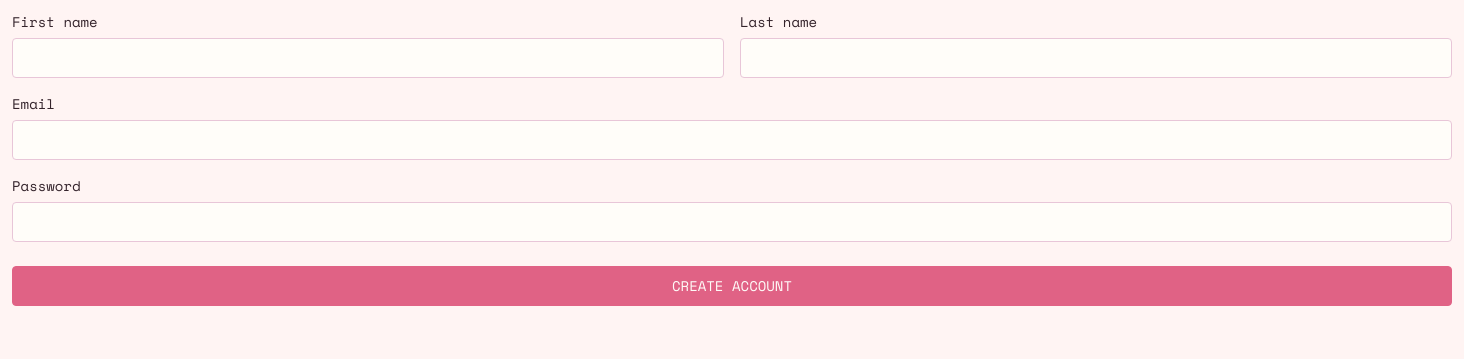
RegisterForm › shows a server error when the email is already registered
Type "Mila" into the field labelled "First name".
click(368, 58); type("Mila")  # box [12,38,724,78]
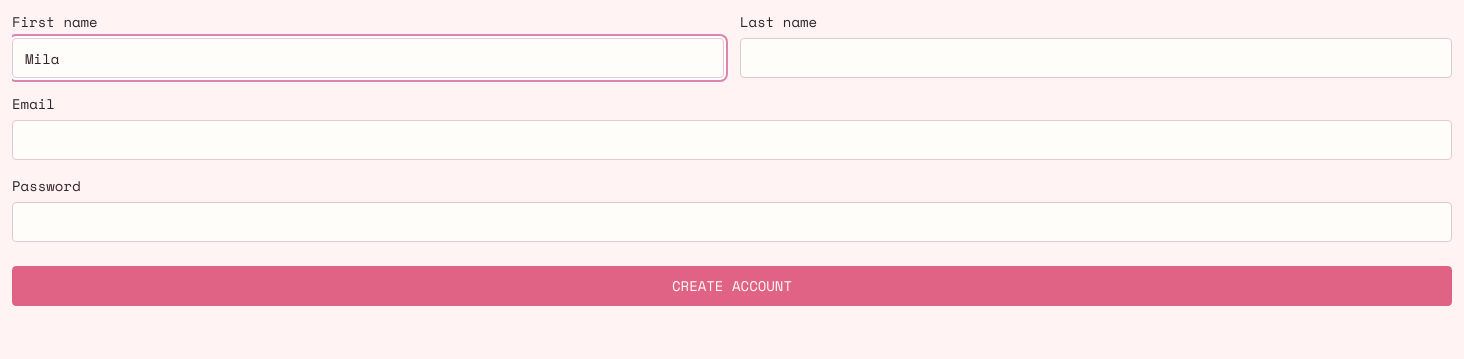
Type "Cerutti" into the field labelled "Last name".
click(1096, 58); type("Cerutti")  # box [740,38,1452,78]
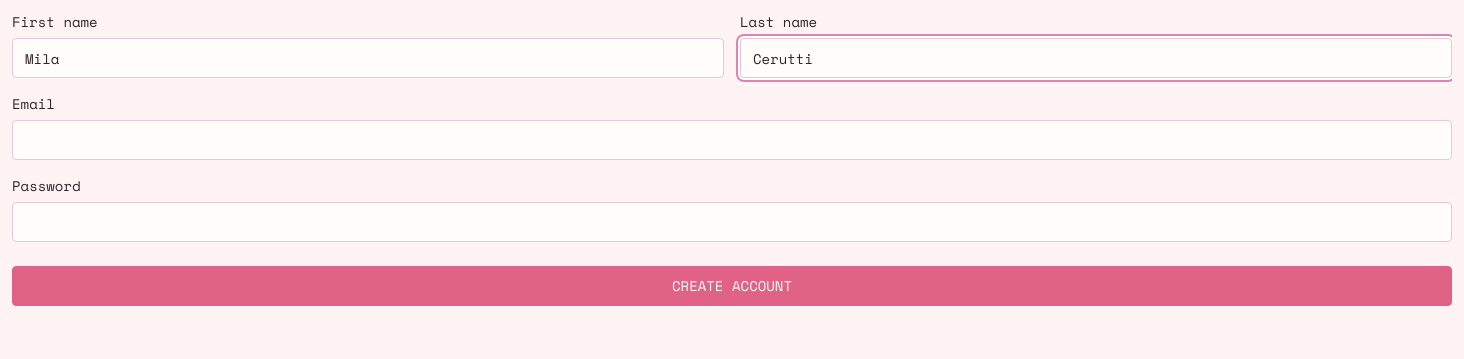
Type "mila@example.com" into the field labelled "Email".
click(732, 140); type("mila@example.com")  # box [12,120,1452,160]
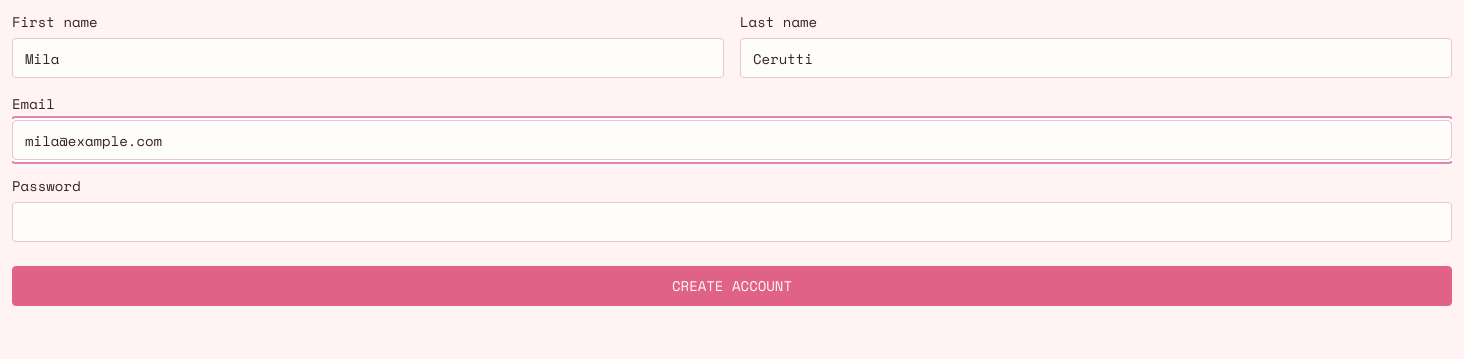
Type "supersecret1" into the password field labelled "Password".
click(732, 222); type("supersecret1")  # box [12,202,1452,242]
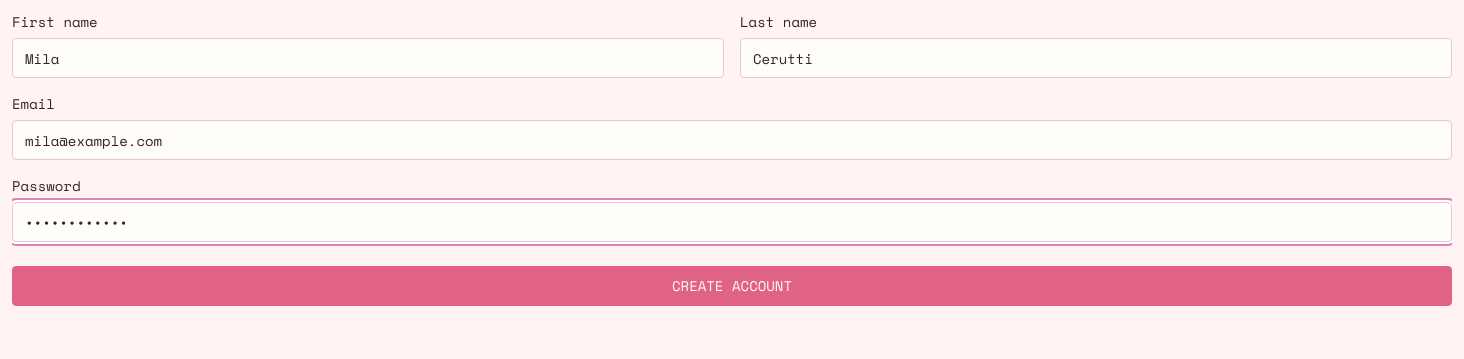
Click the button "Create Account".
click(732, 286)  # box [12,266,1452,306]
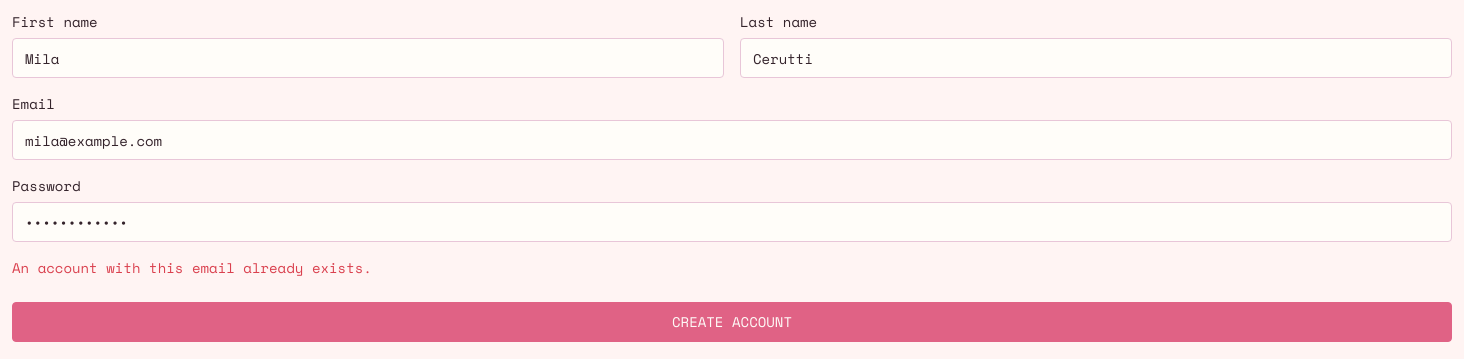
Result: the message reads "An account with this email already exists." at [12,257,372,278]
